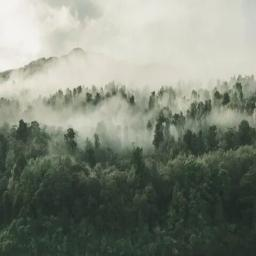Heavy smoke: (0, 0, 256, 154)
